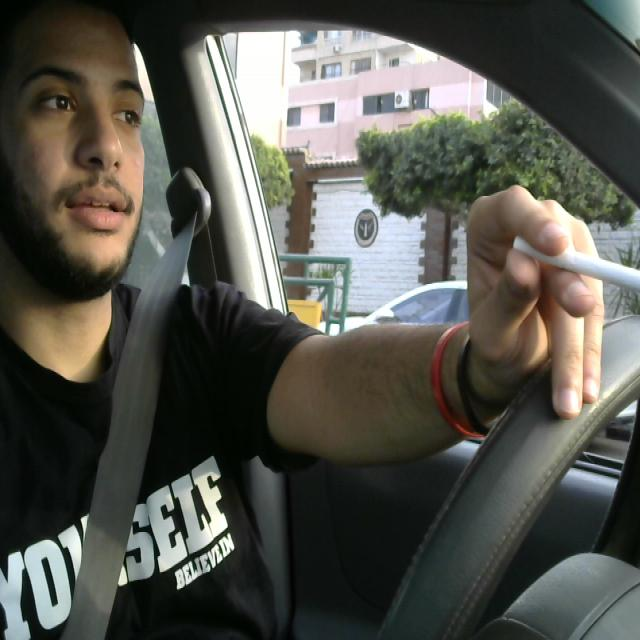smoking: (506, 228, 640, 287)
